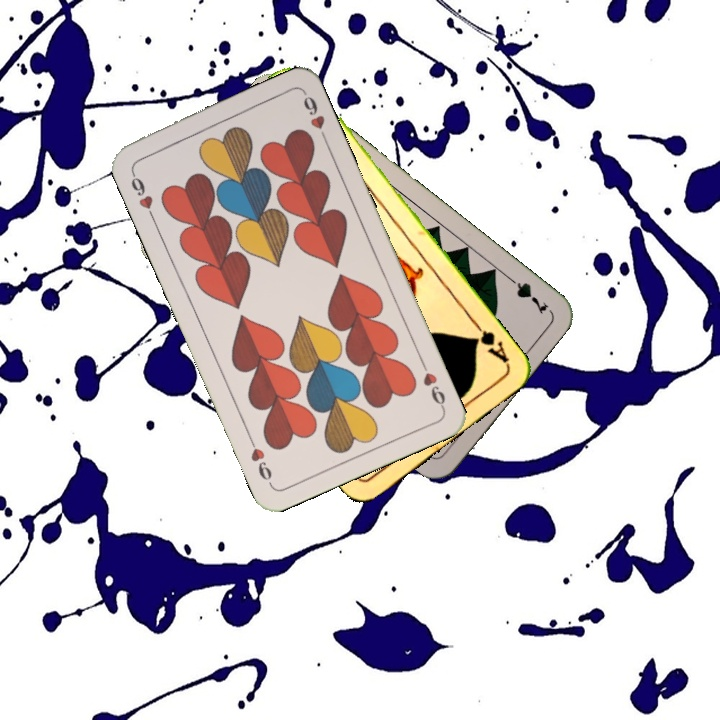G7: (501, 271, 551, 317)
GA: (468, 316, 512, 366)
H9: (416, 356, 448, 412), (126, 166, 157, 222)
